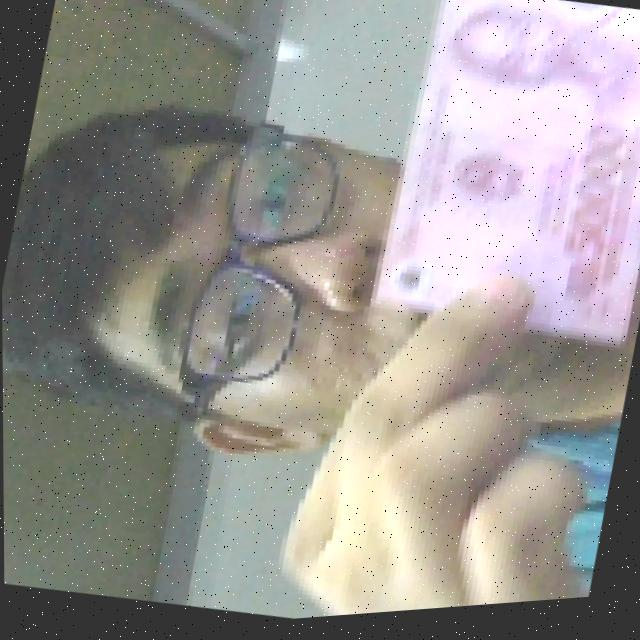50 000 VND: (355, 0, 640, 378)
